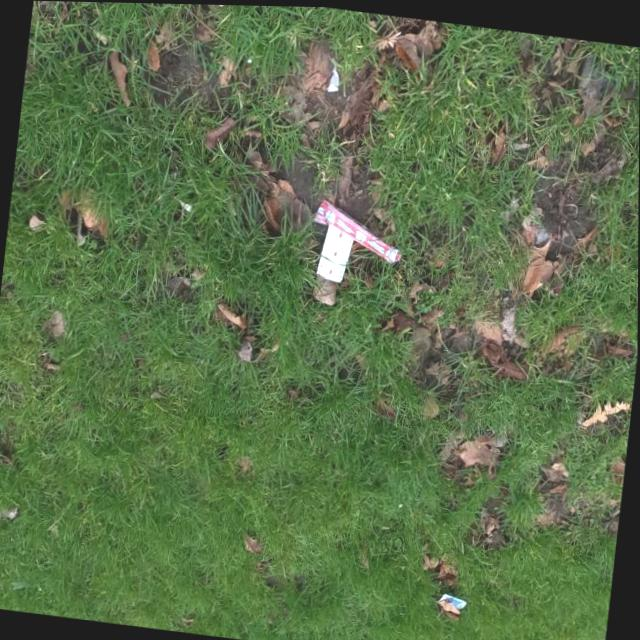Plastic: (308, 193, 407, 263)
